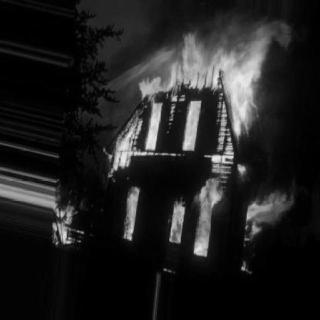Fire: (56, 178, 82, 254)
